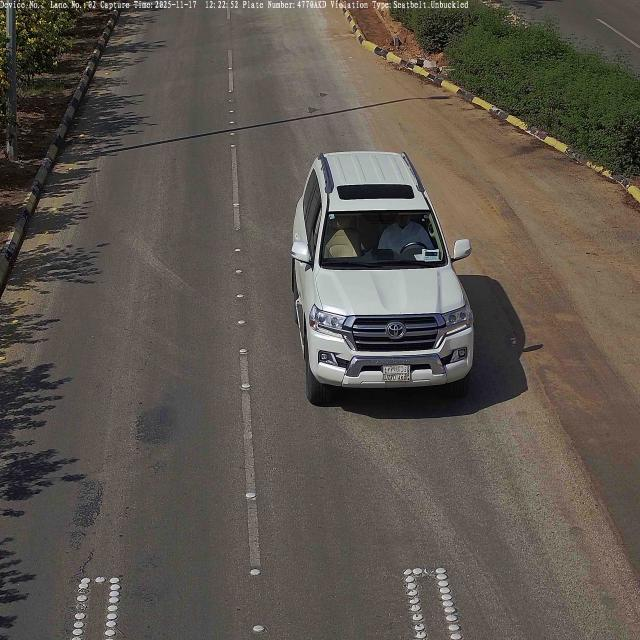person_without_seatbelt: (380, 211, 430, 256)
